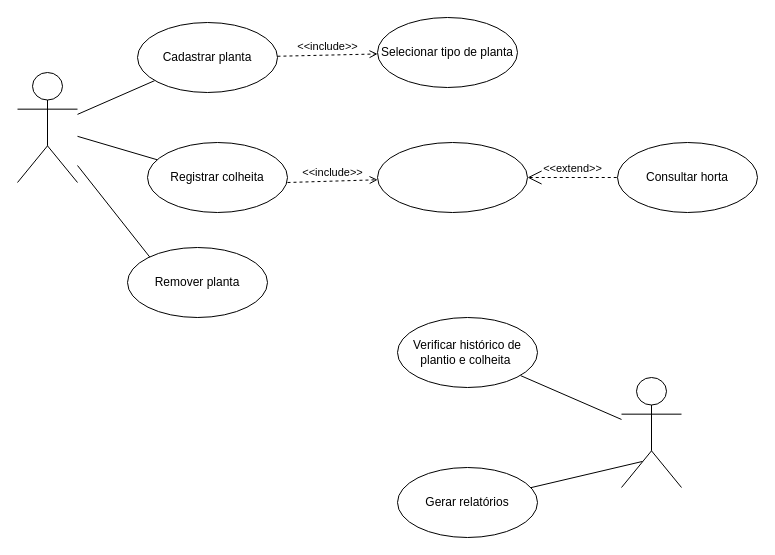
Some shapes in this 775 by 555 pixel diagram are drawn without their labels. Each missing label, with the centre of its shape:
"Administrador" goes at (651,432).
"Inserir quantidade e data da colheita" goes at (452,177).
"Usuário" goes at (47,127).
